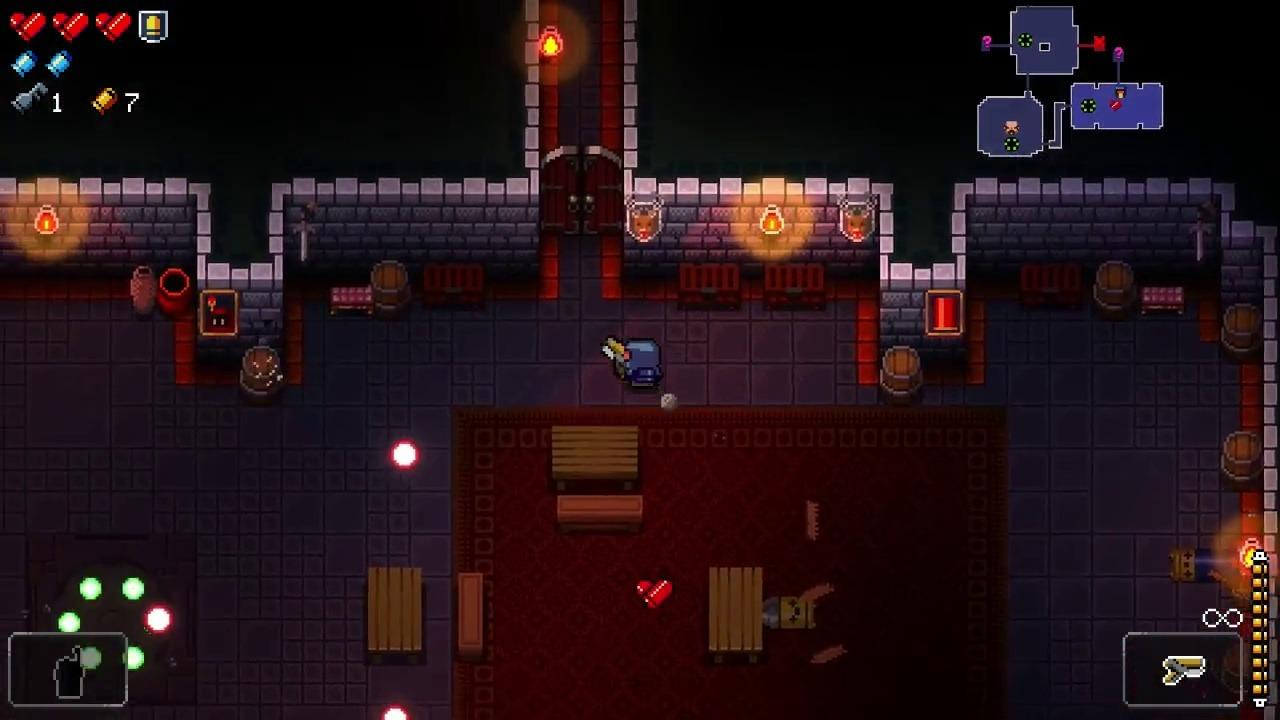bullet: (390, 439, 419, 470), (381, 704, 410, 720)
dead_blue_shotgun_kin: (1169, 549, 1245, 582)
dead_bullet_kin: (763, 597, 816, 630)
health: (637, 578, 673, 611)
player: (626, 337, 663, 390)
table: (551, 425, 638, 490), (367, 567, 422, 665), (709, 566, 763, 664)
teleporter: (23, 534, 199, 708)
unlocked_door: (540, 144, 624, 233)
